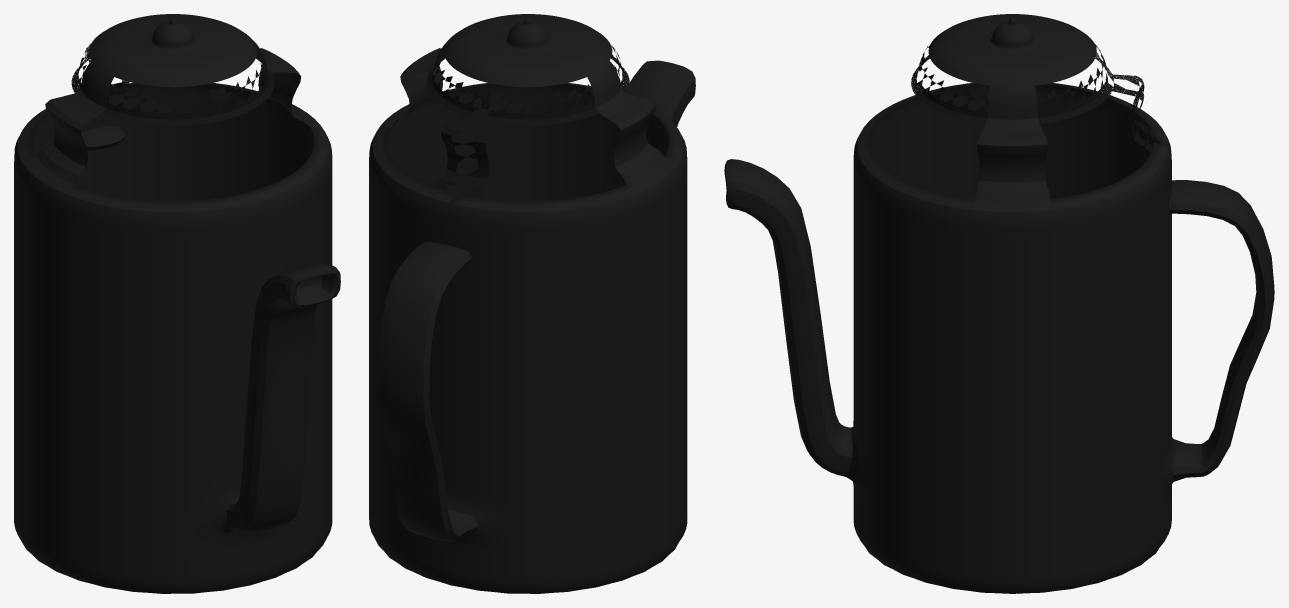
The model's file is kaddle.fbx.
3 views of the same model, side by side, from view 1: azimuth 30°, elevation 25°; view 2: azimuth 150°, elevation 25°; view 3: azimuth 270°, elevation 25° (orthographic).
Visible parts, largest first — view 1: Cylinder; view 2: Cylinder; view 3: Cylinder.
Boxes of the visible parts, box(x1,y1,x2,y2) form: Cylinder: box(14, 14, 340, 593); Cylinder: box(369, 14, 695, 593); Cylinder: box(724, 14, 1274, 593).
Bounding box in the file's own units: 27.82 × 50.08 × 48.08.
Materials: 1 (1 with a texture image).
